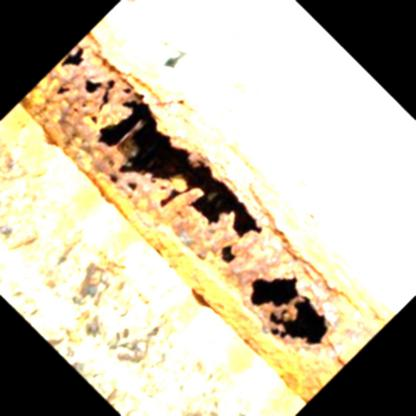burst: (96, 81, 266, 255), (247, 272, 354, 360)
